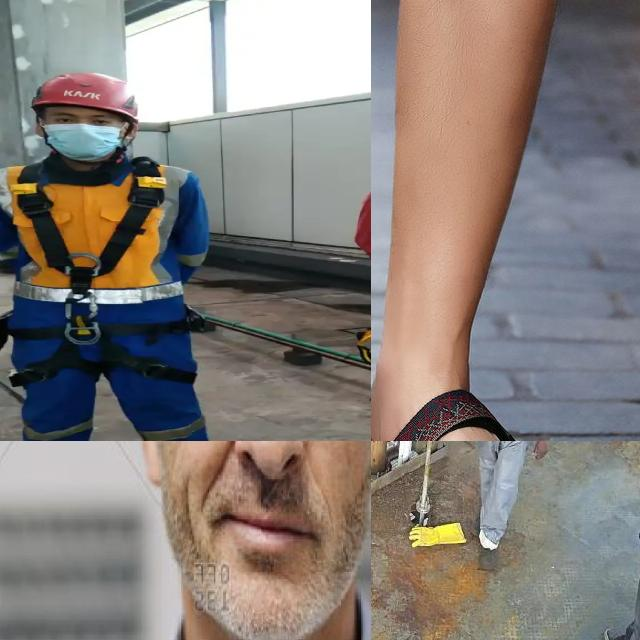Harness: (0, 159, 197, 384)
Sandals: (371, 308, 616, 441)
face_nomask: (152, 441, 371, 575)
hand_noglove: (527, 441, 554, 463)
person: (457, 441, 559, 579), (600, 441, 640, 640)
shoes: (476, 536, 502, 574), (597, 624, 640, 640)
